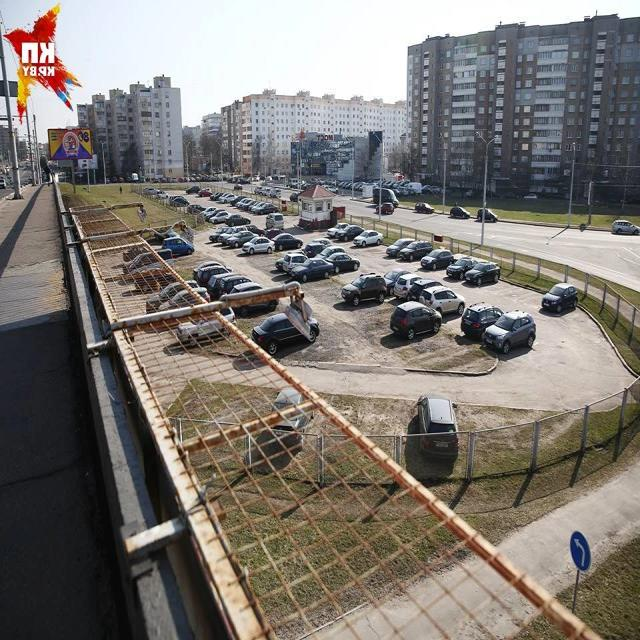car: (250, 308, 316, 367), (265, 388, 318, 449), (177, 299, 234, 351), (413, 389, 454, 461), (388, 301, 440, 349), (337, 268, 385, 312), (483, 310, 531, 352), (457, 299, 503, 341), (124, 246, 173, 276), (542, 282, 579, 313), (134, 265, 174, 293), (463, 258, 500, 288), (421, 291, 464, 316), (292, 259, 334, 283), (242, 234, 275, 258), (419, 248, 453, 270), (162, 236, 193, 260), (445, 255, 475, 279), (400, 240, 431, 263), (384, 236, 414, 257), (226, 228, 251, 251), (336, 224, 364, 244), (354, 231, 383, 250), (217, 228, 247, 245), (274, 235, 304, 251), (611, 219, 640, 235), (121, 244, 150, 260), (372, 188, 396, 206), (475, 207, 498, 224), (267, 210, 284, 232), (450, 202, 470, 220), (326, 221, 346, 238), (224, 214, 251, 226), (413, 199, 433, 215), (375, 200, 394, 214), (255, 204, 277, 216), (210, 212, 228, 225), (404, 183, 422, 196), (170, 198, 188, 207), (186, 185, 198, 195), (197, 190, 211, 198), (290, 191, 300, 201), (156, 191, 167, 199), (0, 175, 6, 189), (233, 183, 241, 192), (132, 173, 138, 182)
